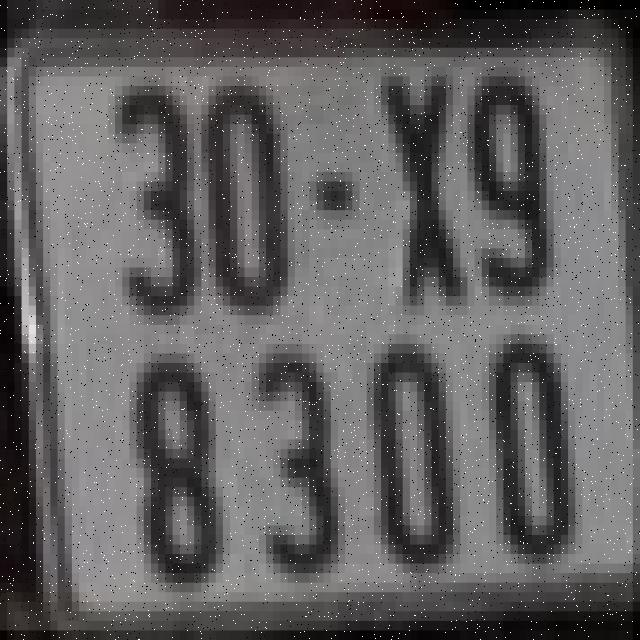0: (205, 81, 291, 311), (374, 339, 460, 568), (489, 339, 575, 559)
3: (115, 81, 201, 320), (255, 349, 342, 578)
8: (137, 353, 223, 583)
9: (467, 72, 554, 301)
X: (385, 72, 464, 310)
